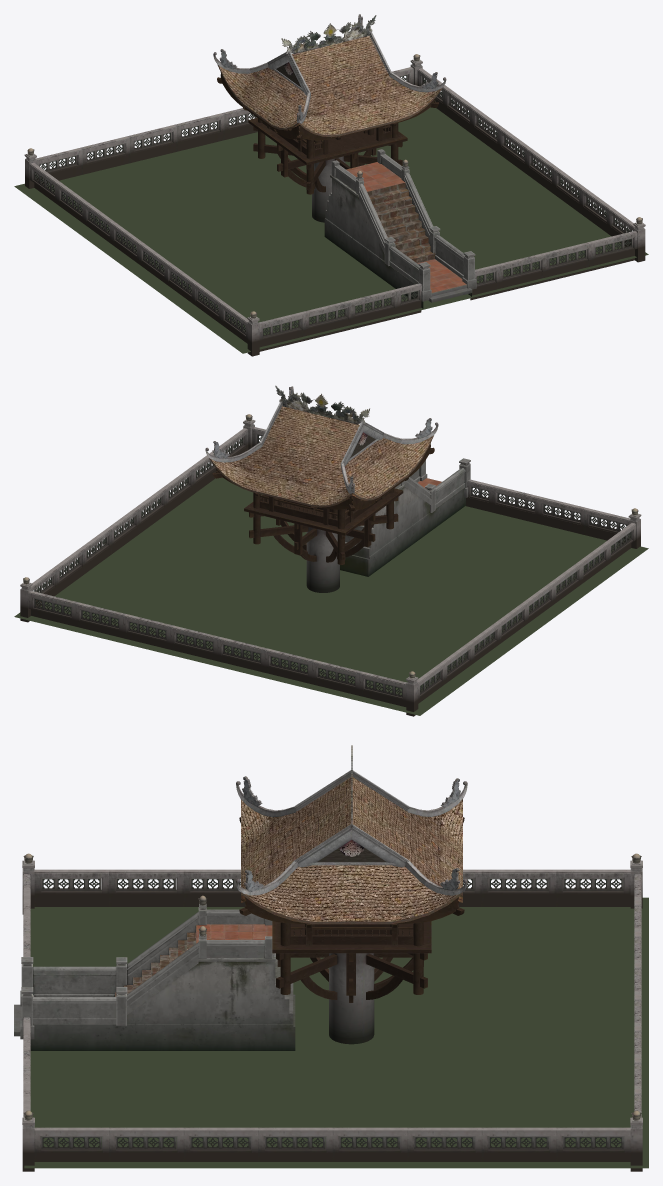
Rendered from one-pillar-pagoda-chua-mot-cot-compressed.glb.
3 views of the same model, one above another, from view 1: azimuth 30°, elevation 25°; view 2: azimuth 150°, elevation 25°; view 3: azimuth 270°, elevation 25° (orthographic). The views are drawn at different scales.
Parts seen in each view (by area): view 1: MatNuoc, PhanPhu, PhanChinh; view 2: MatNuoc, PhanPhu, PhanChinh; view 3: MatNuoc, PhanPhu, PhanChinh.
Boxes of the visible parts, <box> form: MatNuoc: <box>14,107,648,353</box>; PhanPhu: <box>24,59,645,356</box>; PhanChinh: <box>213,14,446,222</box>; MatNuoc: <box>14,477,648,715</box>; PhanPhu: <box>20,419,641,716</box>; PhanChinh: <box>205,385,438,592</box>; MatNuoc: <box>24,897,648,1168</box>; PhanPhu: <box>14,860,642,1171</box>; PhanChinh: <box>236,745,467,1044</box>.
Bounding box in the file's own units: 17.56 × 8.12 × 17.42.
3 materials, 2 textured.
